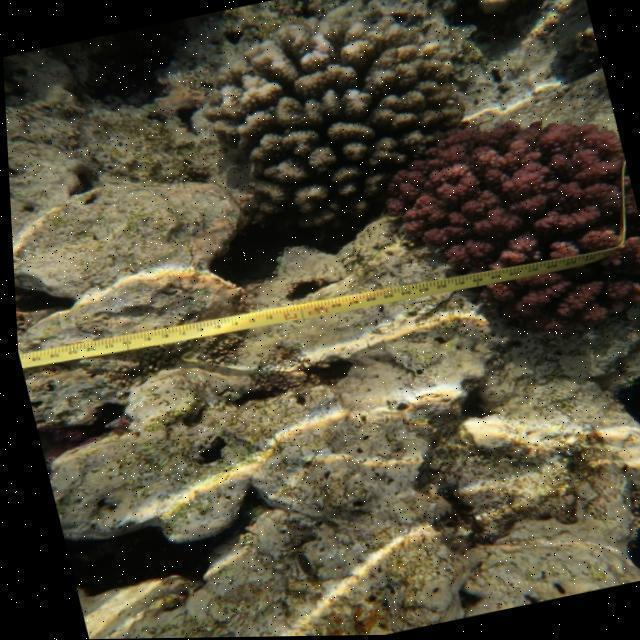Dead Coral: (203, 3, 468, 226)
Healthy Coral: (389, 122, 623, 272), (491, 275, 640, 329)
